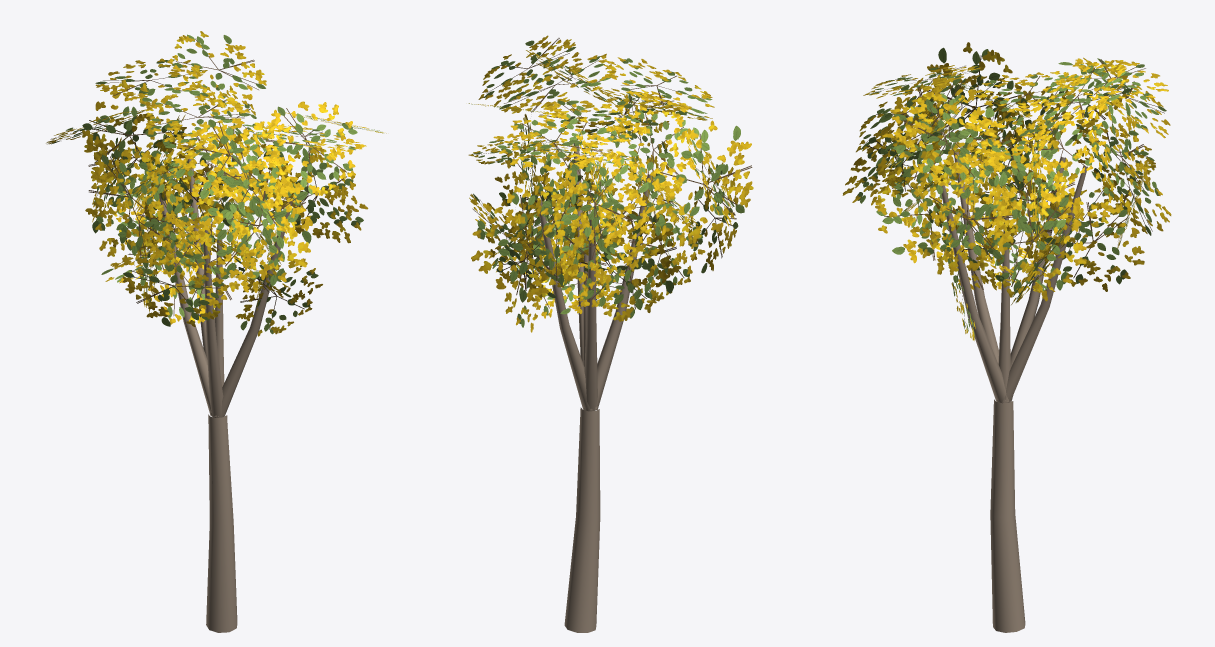
Rendered from handroanthus-albus.glb.
3 renders of one model, left to right at view 1: azimuth 30°, elevation 25°; view 2: azimuth 150°, elevation 25°; view 3: azimuth 270°, elevation 25°, orthographic. The views are drawn at different scales.
Visible parts, largest first — view 1: folhas, tronco; view 2: folhas, tronco; view 3: folhas, tronco.
Part boxes in pixels (x1,y1,x2,y2): folhas: (46,31,386,336); tronco: (159,153,292,632); folhas: (468,35,753,332); tronco: (536,143,651,632); folhas: (842,42,1171,340); tronco: (941,151,1087,632).
Size of the model in its own units: 5.51 by 10 by 6.
2 materials, 1 textured.
